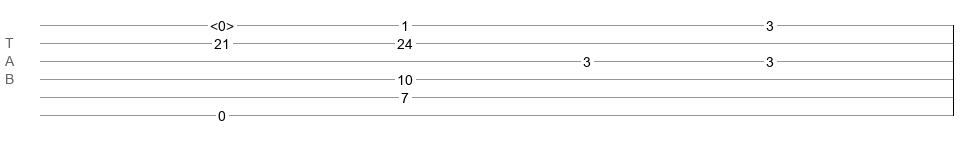0: (218, 108, 226, 118)
1: (401, 18, 409, 28)
10: (397, 72, 413, 82)
21: (214, 36, 230, 46)
24: (397, 36, 413, 46)
3: (583, 54, 591, 64), (766, 18, 774, 28), (766, 54, 774, 64)
7: (401, 90, 409, 100)
harmonic: (210, 18, 234, 28)
